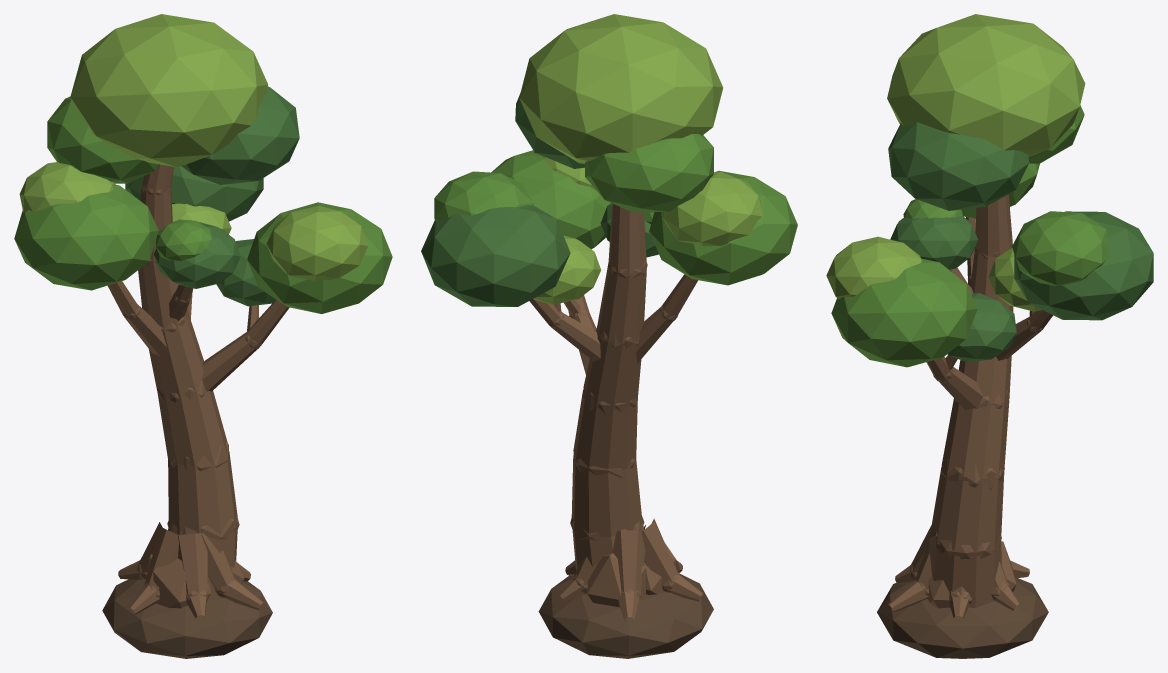
File: tree_04_trae.glb
3 views of the same model, side by side, from view 1: azimuth 30°, elevation 25°; view 2: azimuth 150°, elevation 25°; view 3: azimuth 270°, elevation 25° (orthographic). The views are drawn at different scales.
Parts seen in each view (by area): view 1: OR_Tree_leafB, OR_Tree_bark, OR_Tree_leafA, OR_Tree_leafC, OR_Tree_soil; view 2: OR_Tree_leafB, OR_Tree_bark, OR_Tree_leafA, OR_Tree_leafC, OR_Tree_soil; view 3: OR_Tree_leafB, OR_Tree_bark, OR_Tree_leafC, OR_Tree_leafA, OR_Tree_soil.
Part boxes in pixels (x1,y1,x2,y2): OR_Tree_leafB: [19, 14, 368, 280]; OR_Tree_bark: [107, 164, 289, 618]; OR_Tree_leafA: [14, 96, 392, 313]; OR_Tree_leafC: [125, 86, 299, 306]; OR_Tree_soil: [102, 579, 272, 658]; OR_Tree_leafB: [519, 14, 762, 304]; OR_Tree_bark: [529, 203, 702, 620]; OR_Tree_leafA: [434, 134, 797, 285]; OR_Tree_leafC: [421, 94, 658, 306]; OR_Tree_soil: [538, 573, 713, 658]; OR_Tree_leafB: [826, 14, 1085, 311]; OR_Tree_bark: [888, 194, 1052, 618]; OR_Tree_leafC: [888, 122, 1153, 362]; OR_Tree_leafA: [831, 105, 1108, 367]; OR_Tree_soil: [877, 578, 1048, 658].
Bounding box in the file's own units: 4.72 × 8.52 × 4.11.
